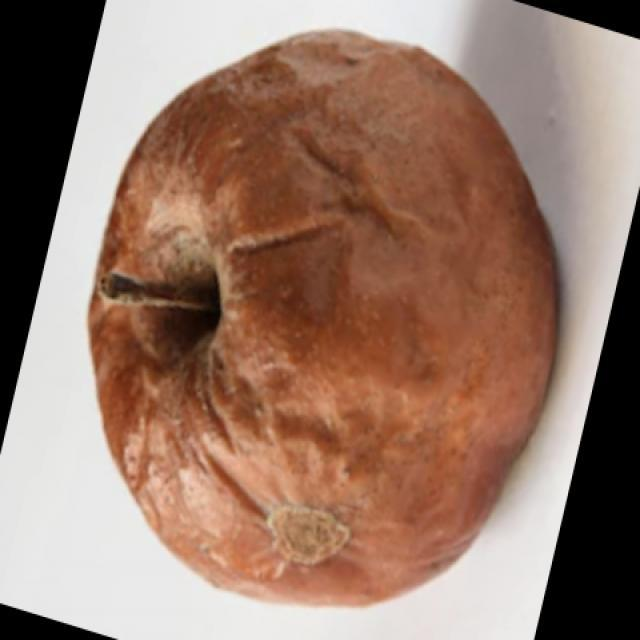Rotten: (110, 38, 573, 590)
